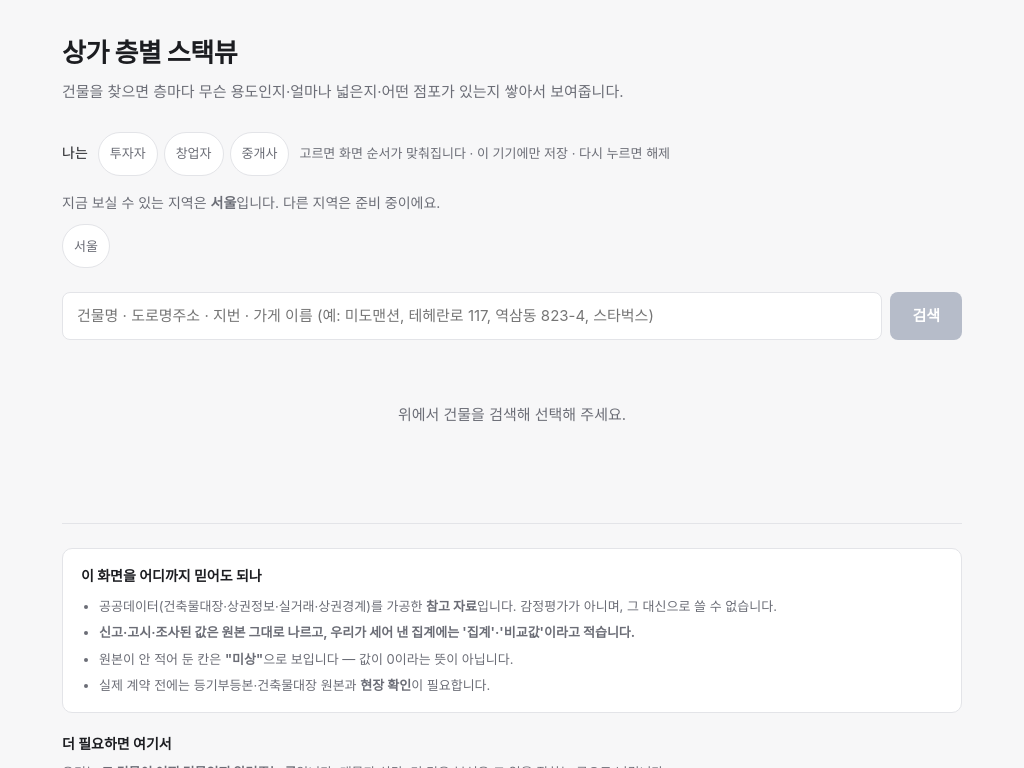
Test case: PC 두 칸 (결정 0039 W5) › ★ 1023 — 두 칸 아님 · 지금 한 열 그대로(건물을 열면 S1 바 · 입구 숨김 · 지도 안 그림 · 체크란·띠·안내 없음)
The width and height of the screenshot is (1024, 768).
Expected: the text "위에서 건물을 검색해 선택해 주세요." is shown, [398,405,626,424]
Click the button "서울": (86, 246) [62,224,110,268]
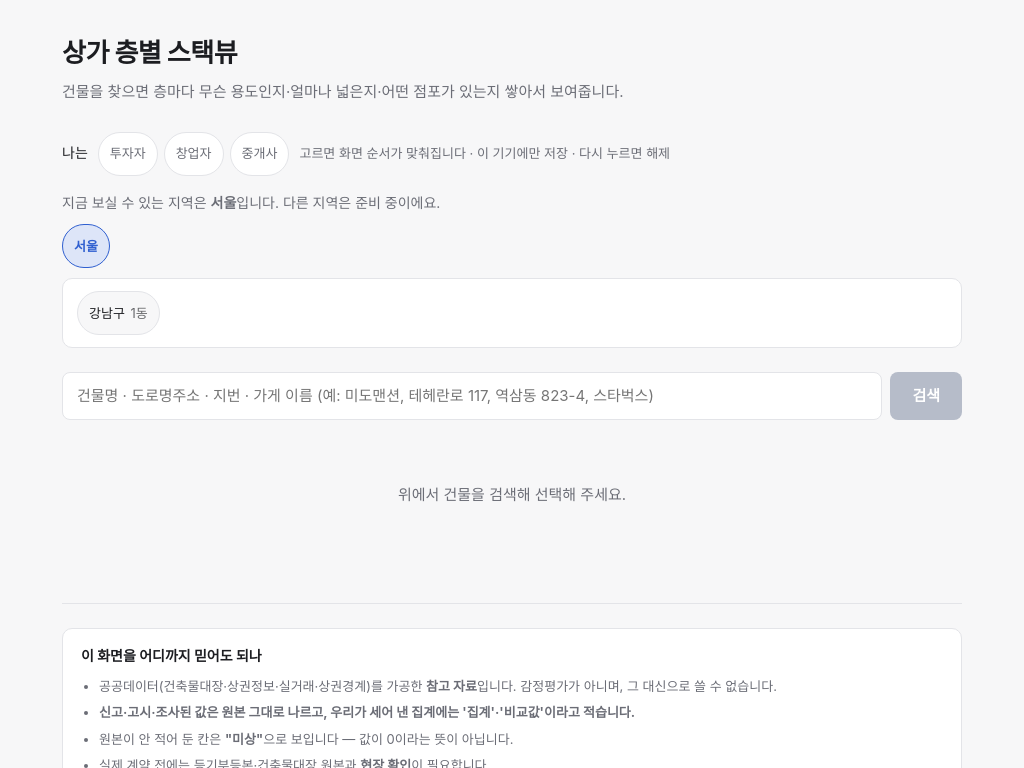
Click the button "강남구 1동": (118, 313) [77,291,160,335]
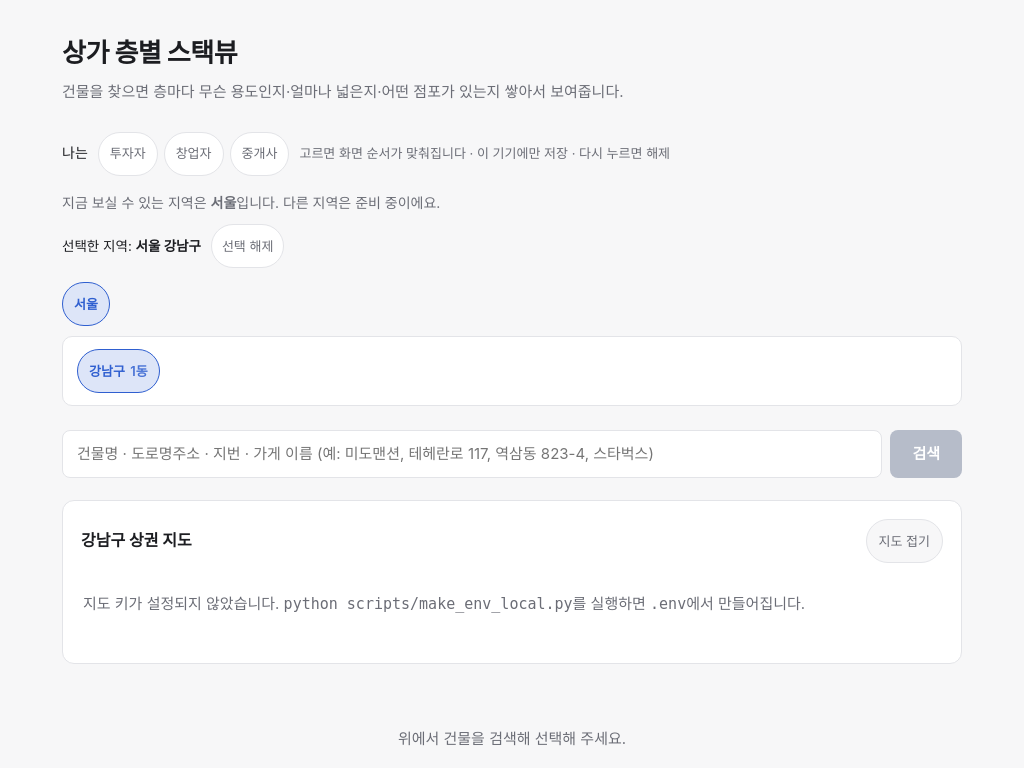
Now the element with class "dmap" is shown, box [62,500,962,664]
Replace the text in the field named "건물명 또는 주소" with "테헤란로": (472, 454) [62,430,882,478]
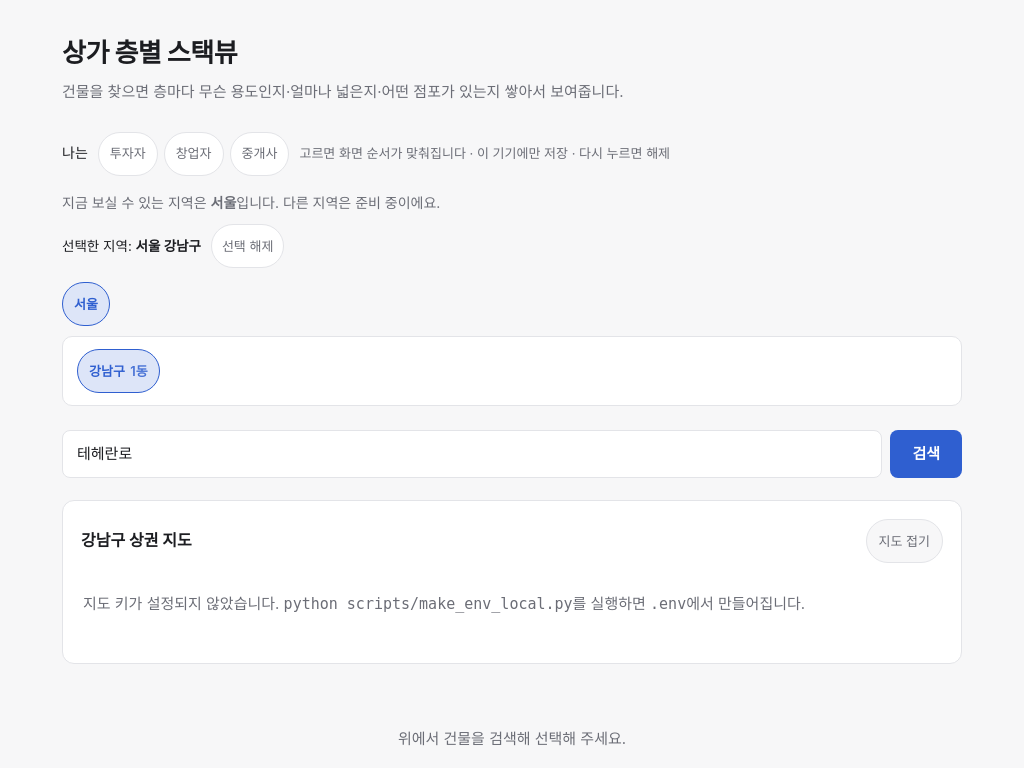
Submit the form named "건물명 또는 주소", box [62,430,962,478]
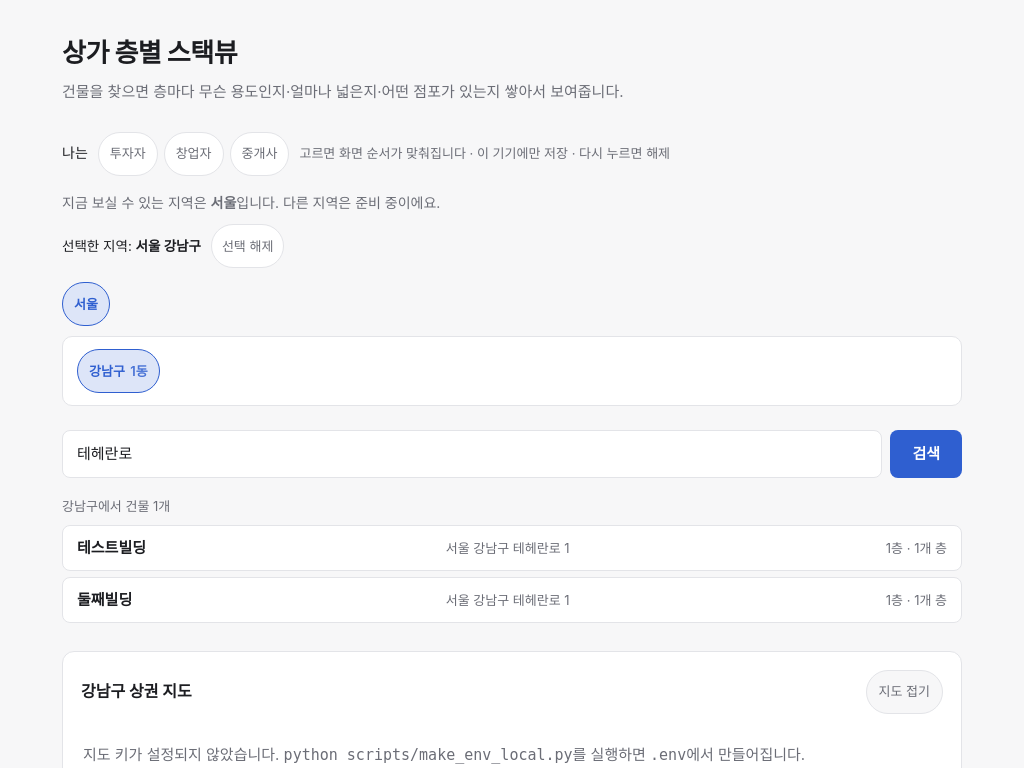
Click the button "테스트빌딩 서울 강남구 테헤란로 1 1층 · 1개 층": (512, 548) [62,525,962,571]
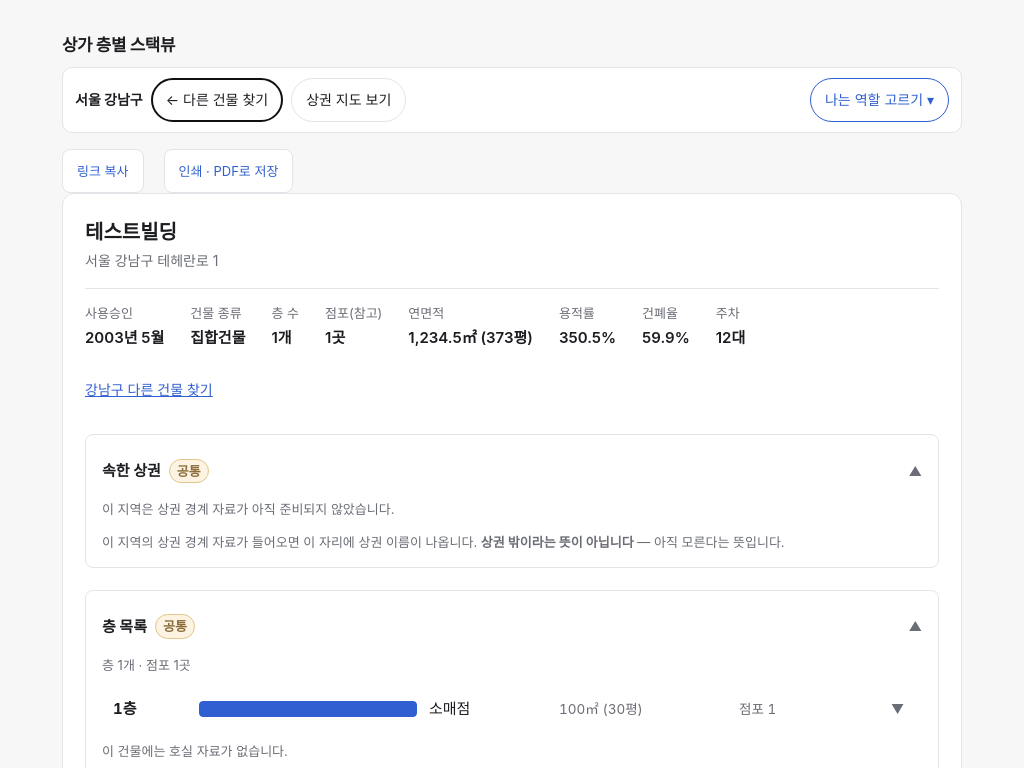
Now the heading "테스트빌딩" is shown, box [85,220,177,244]
Now the element with class "entrybar" is shown, box [62,67,962,133]
